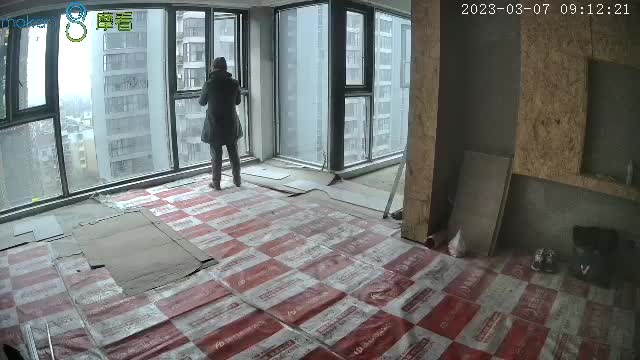people: (200, 57, 243, 188)
window: (1, 10, 249, 213), (273, 11, 408, 166)
